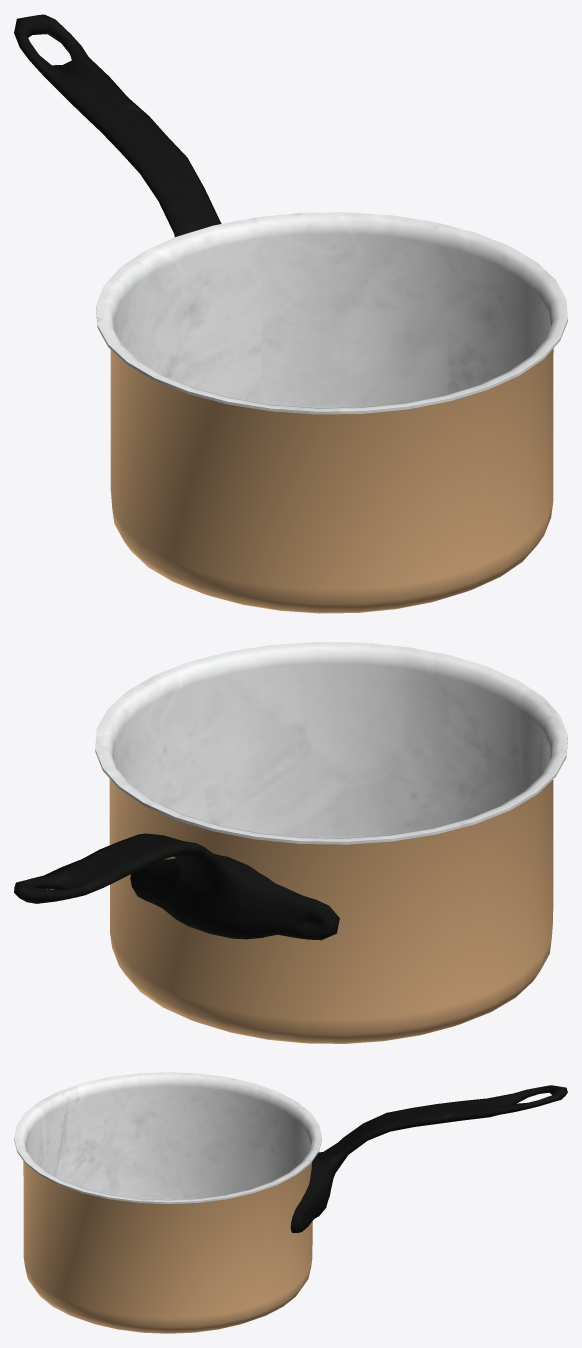
Rendered from Prop_Kitchen_Pan_x3.fbx.
3 views of the same model, one above another, from view 1: azimuth 30°, elevation 25°; view 2: azimuth 150°, elevation 25°; view 3: azimuth 270°, elevation 25° (orthographic). The views are drawn at different scales.
Visible parts, largest first — view 1: Prop_Kitchen_Pan_x3; view 2: Prop_Kitchen_Pan_x3; view 3: Prop_Kitchen_Pan_x3.
Part boxes in pixels (x1,y1,x2,y2): Prop_Kitchen_Pan_x3: (14, 14, 567, 613); Prop_Kitchen_Pan_x3: (14, 642, 567, 1043); Prop_Kitchen_Pan_x3: (14, 1072, 567, 1333).
Size of the model in its own units: 15.35 by 10.58 by 27.59.
